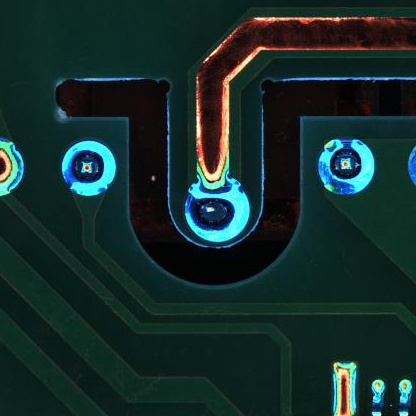spot: (181, 176, 252, 241), (317, 138, 375, 195), (60, 139, 117, 196)
